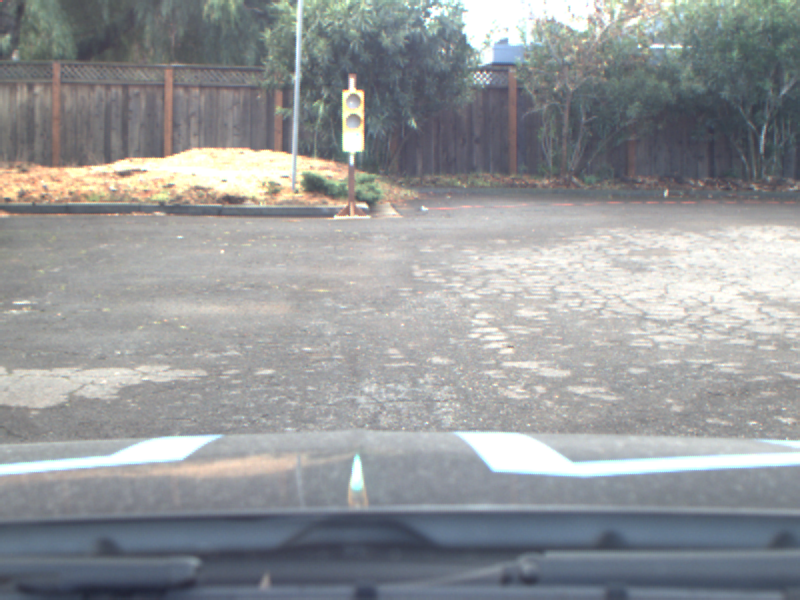Green: (342, 89, 364, 153)
